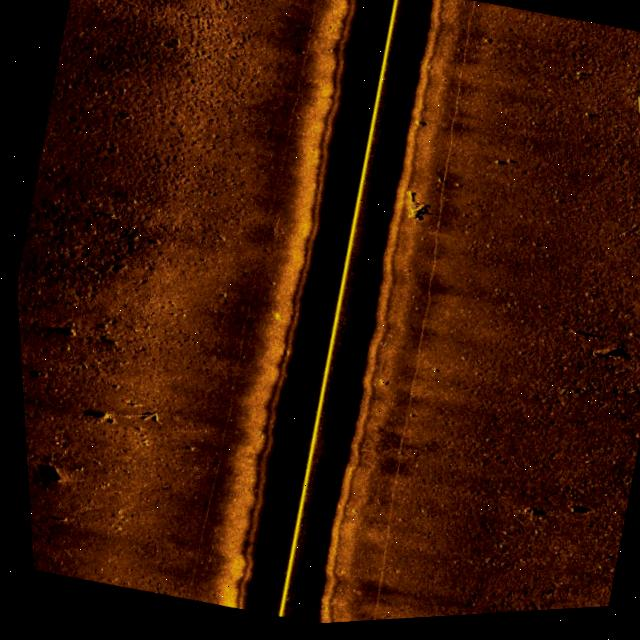mine: (627, 102, 640, 129)
other: (82, 394, 157, 442), (394, 185, 431, 232), (29, 453, 68, 488), (514, 510, 529, 524)
